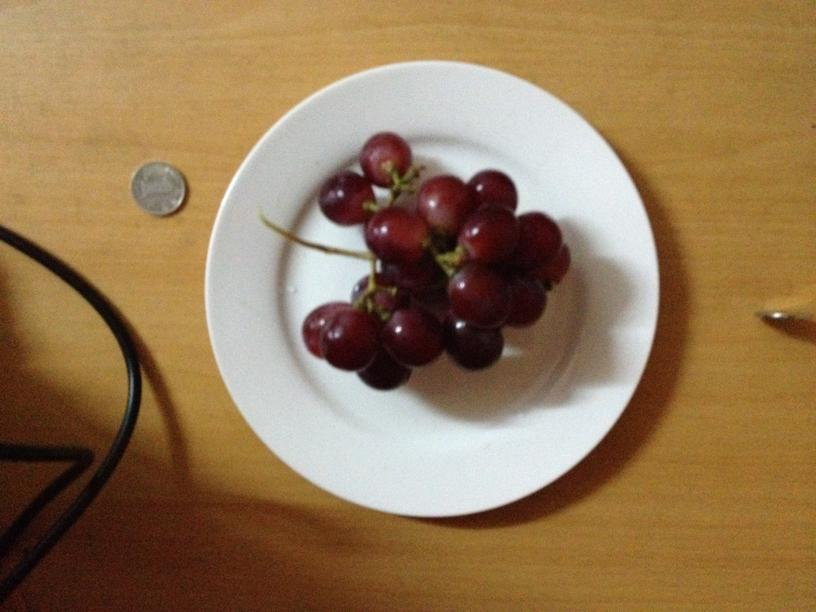coin: (130, 160, 187, 216)
grape: (306, 128, 574, 391)
